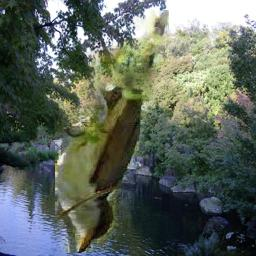Cuckoo: (55, 11, 169, 254)
